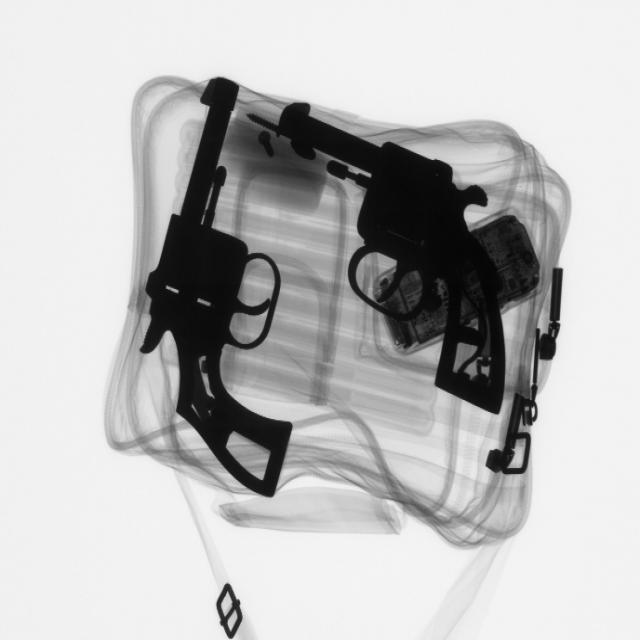GUN: (132, 73, 296, 509), (293, 90, 503, 421)
